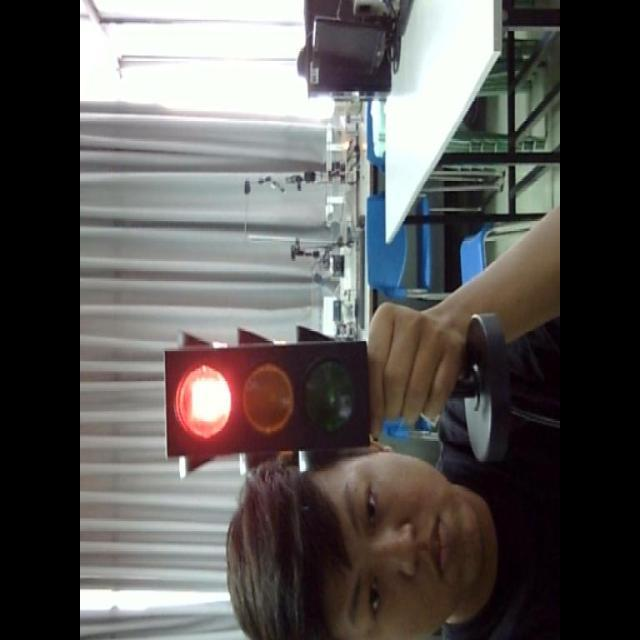red light: (177, 358, 235, 444)
